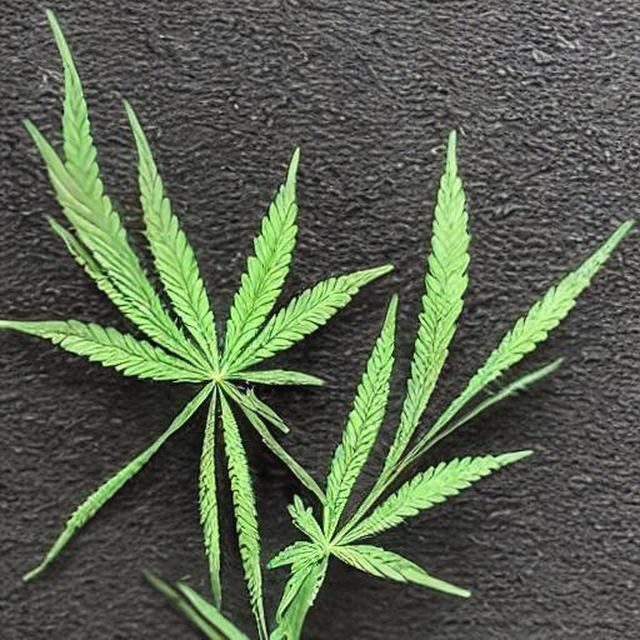Marijuana Leaf: (0, 5, 638, 639)
